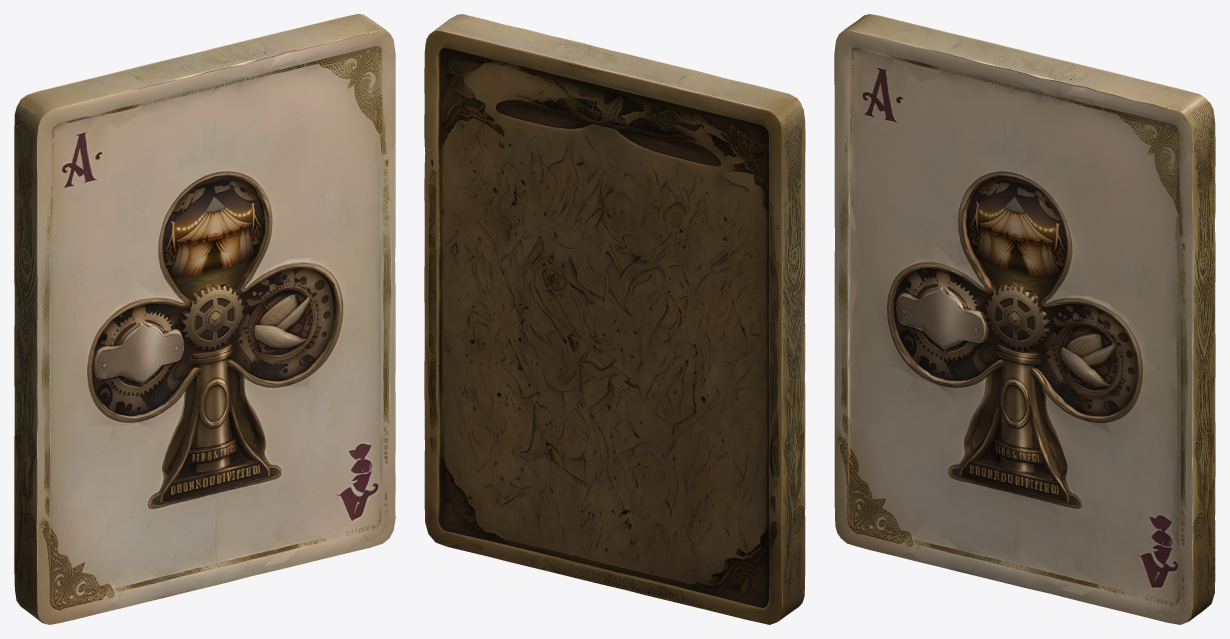
The model's file is Clover.fbx.
3 renders of one model, left to right at view 1: azimuth 30°, elevation 25°; view 2: azimuth 150°, elevation 25°; view 3: azimuth 330°, elevation 25°, orthographic.
Parts seen in each view (by area): view 1: input; view 2: input; view 3: input.
Boxes of the visible parts, <box> form: input: <box>14,14,395,624</box>; input: <box>424,14,805,624</box>; input: <box>834,14,1215,624</box>.
Size of the model in its own units: 72.85 by 99.98 by 8.24.
Materials: 1 (1 with a texture image).
